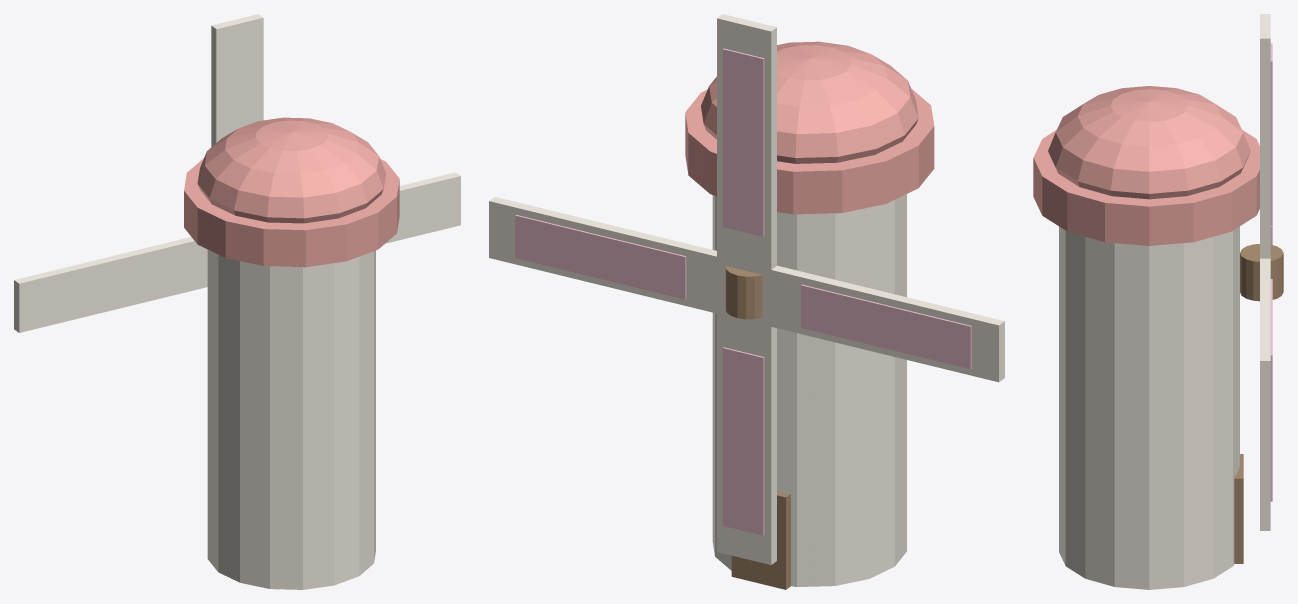
Rendered from Windmill.glb.
The picture shows the model from 3 angles, left to right: view 1: azimuth 30°, elevation 25°; view 2: azimuth 150°, elevation 25°; view 3: azimuth 270°, elevation 25°; orthographic projection. The views are drawn at different scales.
Visible parts, largest first — view 1: Windmill_3, Windmill_1; view 2: Windmill_3, Windmill_2, Windmill_1, Windmill_0; view 3: Windmill_3, Windmill_1, Windmill_0, Windmill_2.
Part boxes in pixels (x1,y1,x2,y2): Windmill_3: (14, 14, 460, 589); Windmill_1: (184, 117, 399, 267); Windmill_3: (489, 14, 1004, 586); Windmill_2: (515, 48, 971, 535); Windmill_1: (685, 41, 934, 214); Windmill_0: (725, 266, 790, 589); Windmill_3: (1059, 14, 1270, 589); Windmill_1: (1033, 86, 1259, 245); Windmill_0: (1234, 244, 1283, 563); Windmill_2: (1270, 43, 1272, 501).
Size of the model in its own units: 15 by 16 by 6.9.
